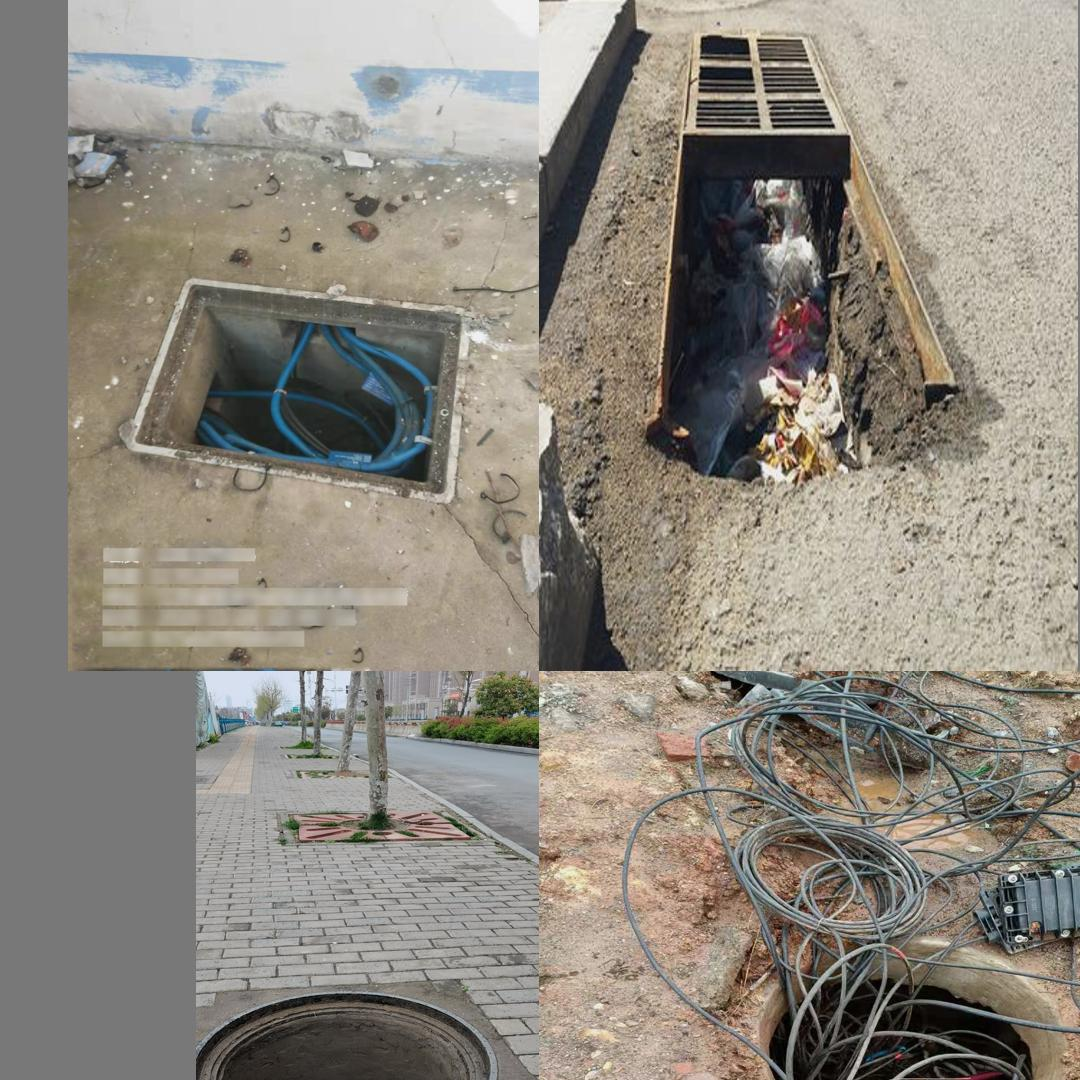lose: (615, 137, 963, 481), (125, 276, 470, 504), (708, 909, 1080, 1080), (196, 990, 498, 1080)
